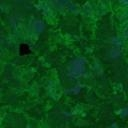alloviz: (17, 42, 33, 57)
